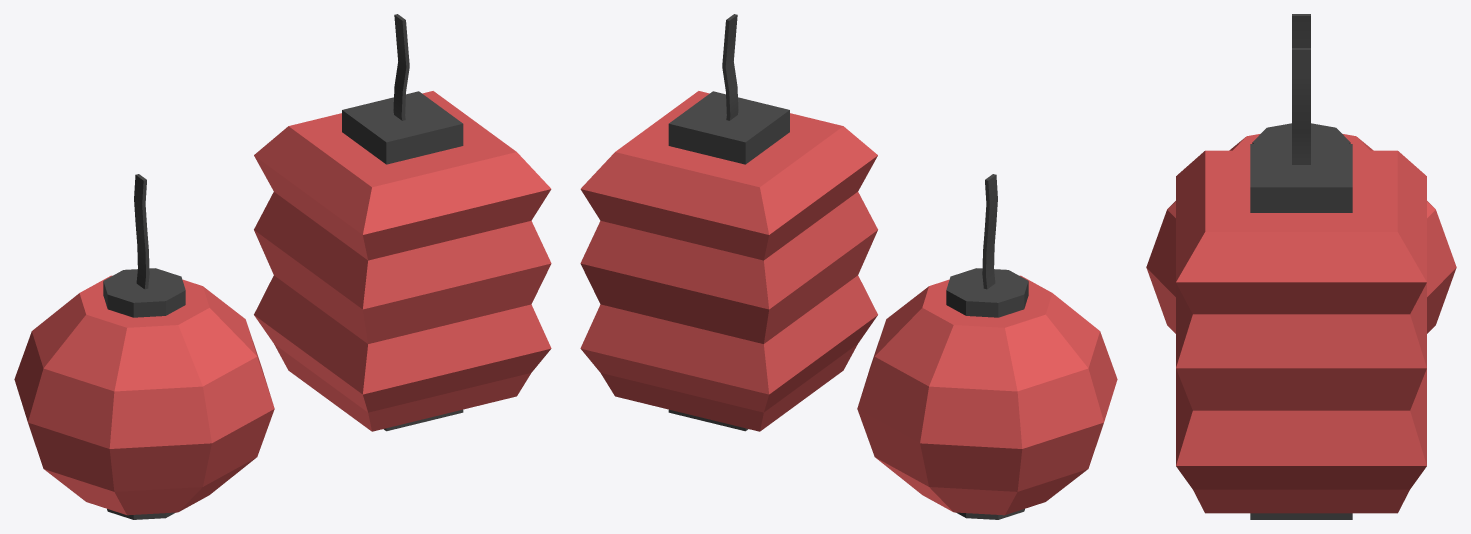
The model's file is Lantern.fbx.
The picture shows the model from 3 angles, left to right: view 1: azimuth 30°, elevation 25°; view 2: azimuth 150°, elevation 25°; view 3: azimuth 270°, elevation 25°; orthographic projection. The views are drawn at different scales.
Parts seen in each view (by area): view 1: lantern, lantern1, pCube62, pCube61; view 2: lantern, lantern1, pCube62, pCube61; view 3: lantern, lantern1, pCube61, pCube62.
Part boxes in pixels (bbox=[...]): lantern: bbox=[254, 91, 551, 431]; lantern1: bbox=[14, 268, 274, 519]; pCube62: bbox=[134, 174, 149, 289]; pCube61: bbox=[393, 14, 409, 120]; lantern: bbox=[580, 91, 877, 431]; lantern1: bbox=[857, 268, 1117, 519]; pCube62: bbox=[982, 174, 997, 289]; pCube61: bbox=[722, 14, 738, 120]; lantern: bbox=[1176, 144, 1426, 519]; lantern1: bbox=[1146, 123, 1456, 333]; pCube61: bbox=[1292, 48, 1310, 164]; pCube62: bbox=[1292, 14, 1310, 47].
Size of the model in its own units: 6.39 by 5.5 by 3.18.
1 material, 1 textured.
